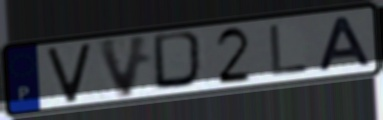2: (214, 25, 254, 87)
A: (315, 14, 374, 73)
D: (151, 29, 209, 92)
L: (267, 22, 311, 78)
V: (94, 32, 153, 101), (44, 40, 94, 105)
